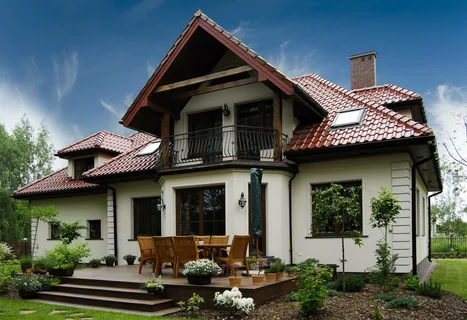private_hause: (36, 79, 429, 272)
